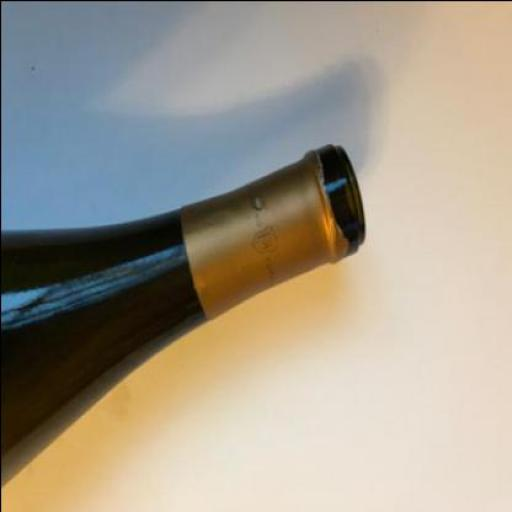glass: (1, 143, 366, 490)
